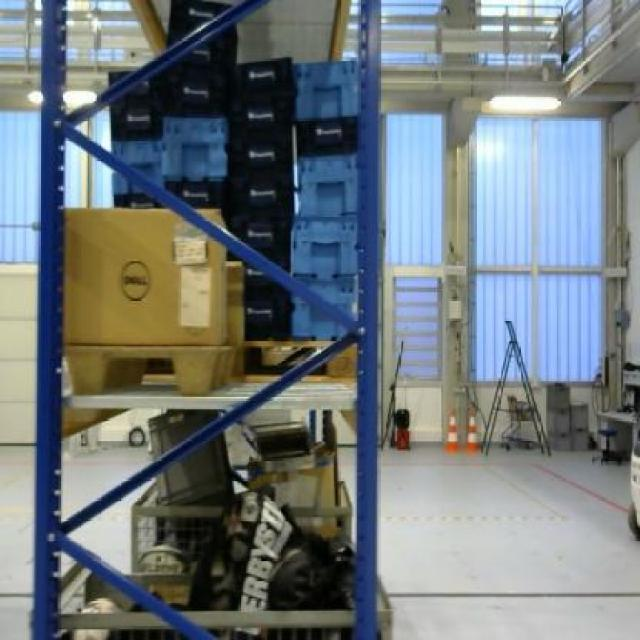box: (64, 206, 228, 342)
